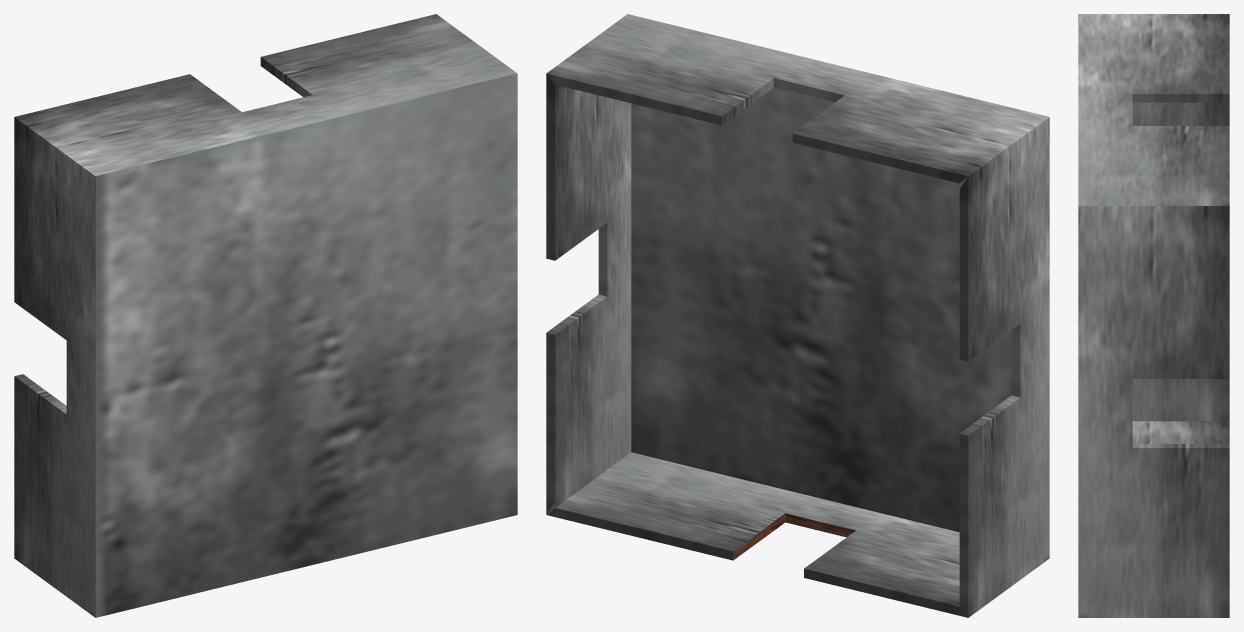
The model's file is 6x6NSEW_sconcrete_wtf.obj.
3 renders of one model, left to right at view 1: azimuth 30°, elevation 25°; view 2: azimuth 150°, elevation 25°; view 3: azimuth 270°, elevation 25°, orthographic. The views are drawn at different scales.
Visible parts, largest first — view 1: group2; view 2: group2; view 3: group2.
Part boxes in pixels (left/top/right/bottom): group2: left=14, top=14, right=517, bottom=617; group2: left=546, top=14, right=1049, bottom=617; group2: left=1078, top=14, right=1229, bottom=617.
Size of the model in its own units: 660 by 660 by 220.
